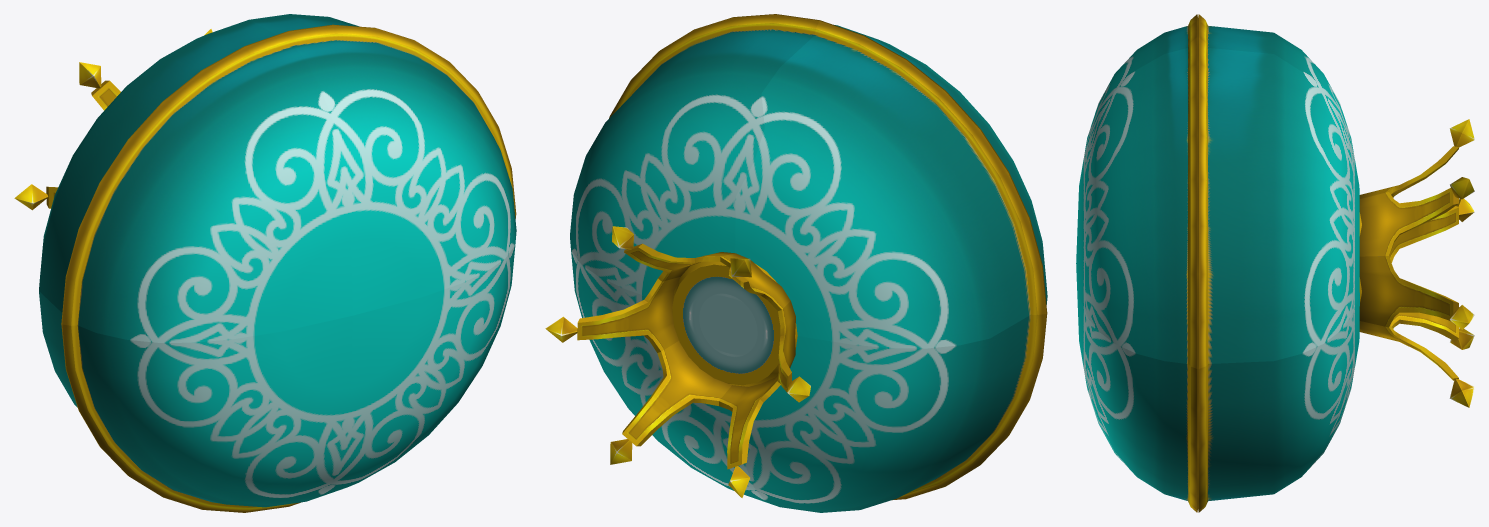
Rendered from JewelryBox_piece.fbx.
3 views of the same model, side by side, from view 1: azimuth 30°, elevation 25°; view 2: azimuth 150°, elevation 25°; view 3: azimuth 270°, elevation 25° (orthographic). The views are drawn at different scales.
Parts seen in each view (by area): view 1: polySurface426, polySurface427, polySurface425, polySurface428, polySurface423, polySurface424; view 2: polySurface425, polySurface423, polySurface424, polySurface428, polySurface422, polySurface411, polySurface426; view 3: polySurface424, polySurface426, polySurface422, polySurface427, polySurface428, polySurface425.
Part boxes in pixels (<box>): polySurface426: <box>62,25,516,342</box>; polySurface427: <box>62,214,516,512</box>; polySurface425: <box>39,20,288,323</box>; polySurface428: <box>14,29,212,210</box>; polySurface423: <box>39,291,127,475</box>; polySurface424: <box>249,14,414,40</box>; polySurface425: <box>735,21,1046,348</box>; polySurface423: <box>745,314,1046,512</box>; polySurface424: <box>570,14,818,296</box>; polySurface428: <box>545,226,810,497</box>; polySurface422: <box>571,251,775,505</box>; polySurface411: <box>672,255,797,386</box>; polySurface426: <box>669,14,1047,312</box>; polySurface424: <box>1198,37,1359,368</box>; polySurface426: <box>1076,14,1197,368</box>; polySurface422: <box>1198,293,1359,512</box>; polySurface427: <box>1076,267,1197,512</box>; polySurface428: <box>1359,119,1474,407</box>; polySurface425: <box>1198,14,1359,194</box>.
Size of the model in its own units: 600 by 600 by 479.
